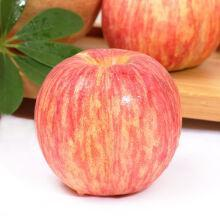apple: (36, 48, 183, 197), (104, 1, 220, 72)
